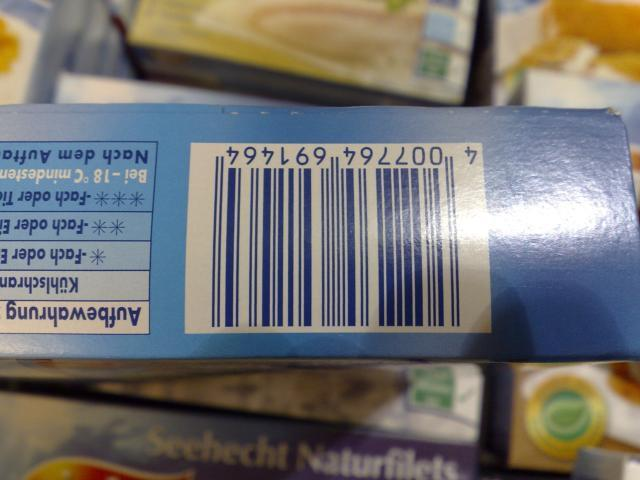Barcode: (184, 141, 491, 333)
